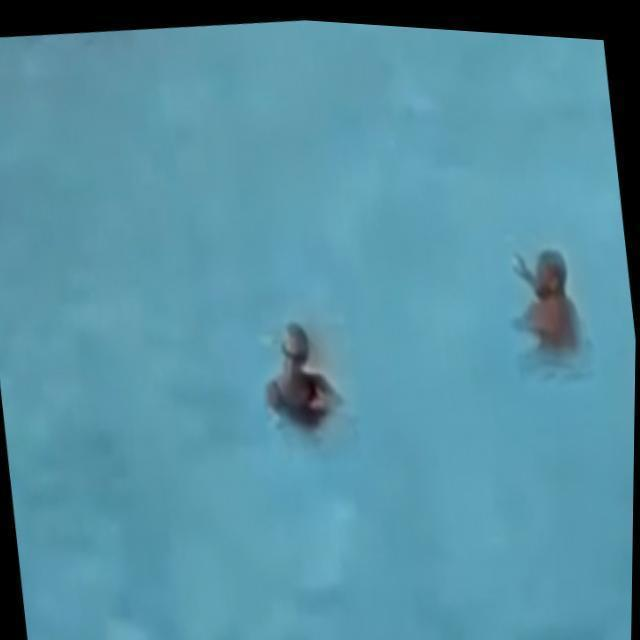swimming: (227, 301, 378, 448), (486, 228, 608, 392)
